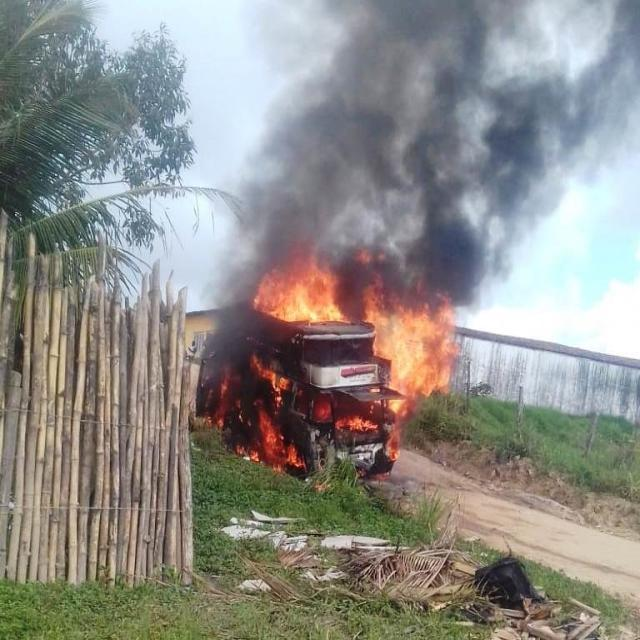Fire: (200, 270, 462, 476)
Smoke: (238, 0, 640, 263)
